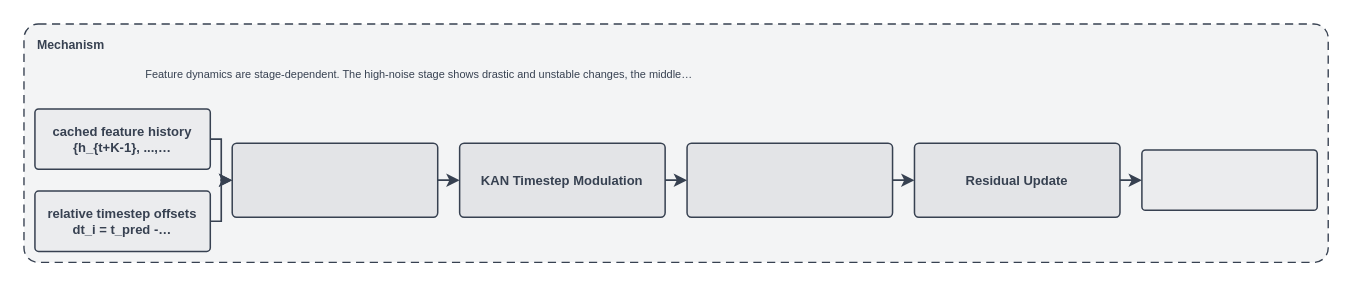
Some shapes in this 1352 by 286 pixel diagram are drawn without their labels. The centre of each missing label's shape, as x and y in pixels:
Feature Projection: point (334, 179)
predicted future feature hhat_{t-1}: point (1229, 179)
Stage-Aware Experts: point (789, 179)
